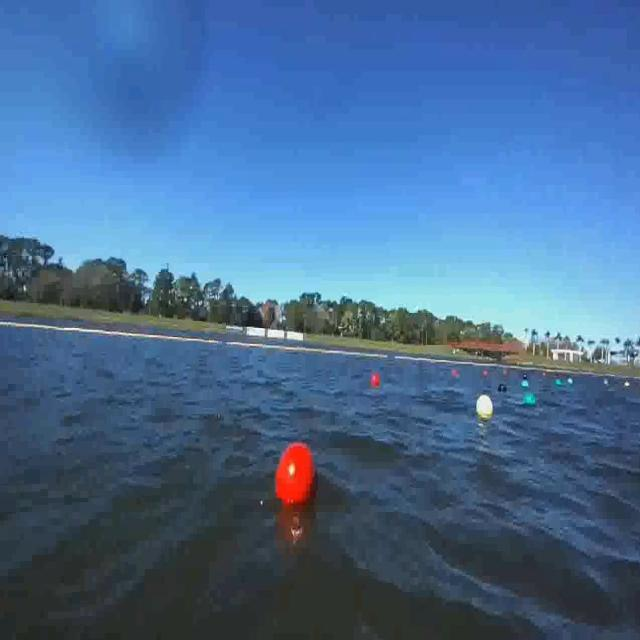black-buoy: (498, 384, 507, 393), (523, 372, 527, 380)
green-buoy: (524, 393, 537, 406), (520, 380, 529, 388)
red-buoy: (274, 440, 318, 510), (370, 372, 380, 388)
yellow-buoy: (478, 397, 494, 423)
